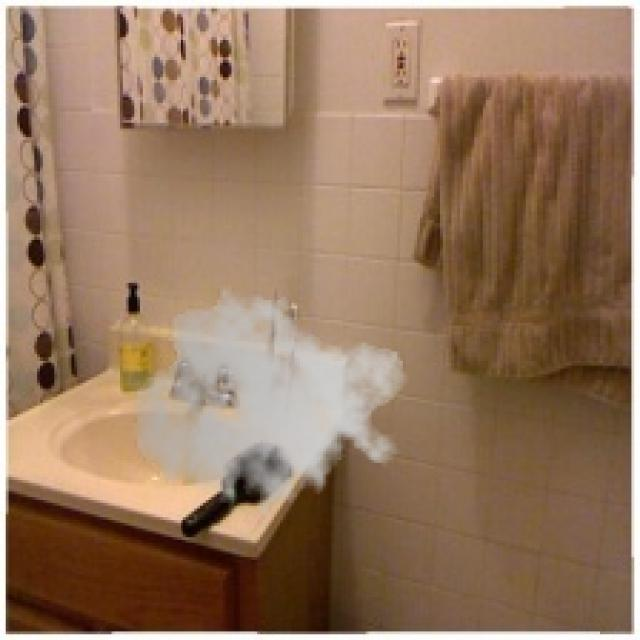smoke: (132, 280, 408, 531)
